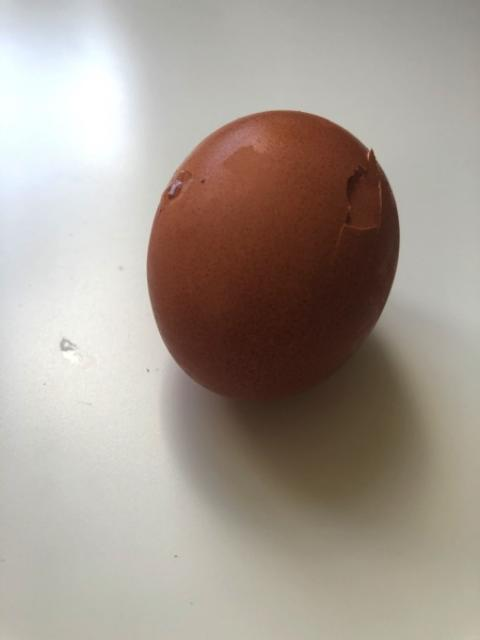Roto: (145, 108, 400, 401)
